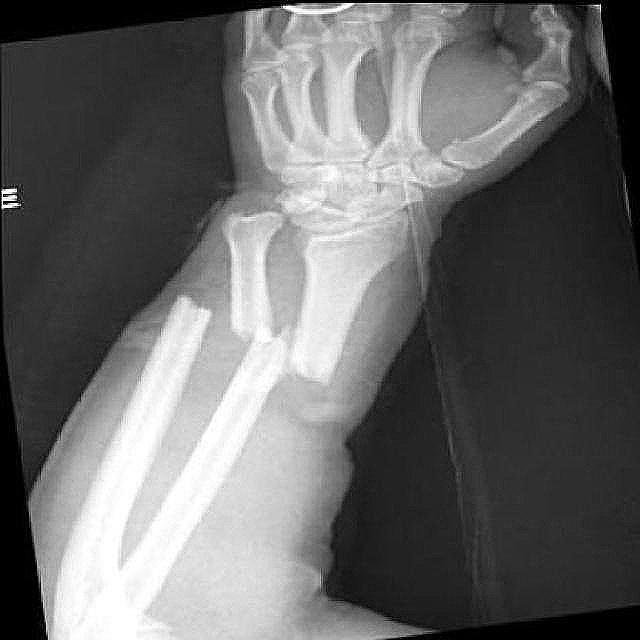bone: (170, 284, 270, 355), (245, 325, 338, 399)
